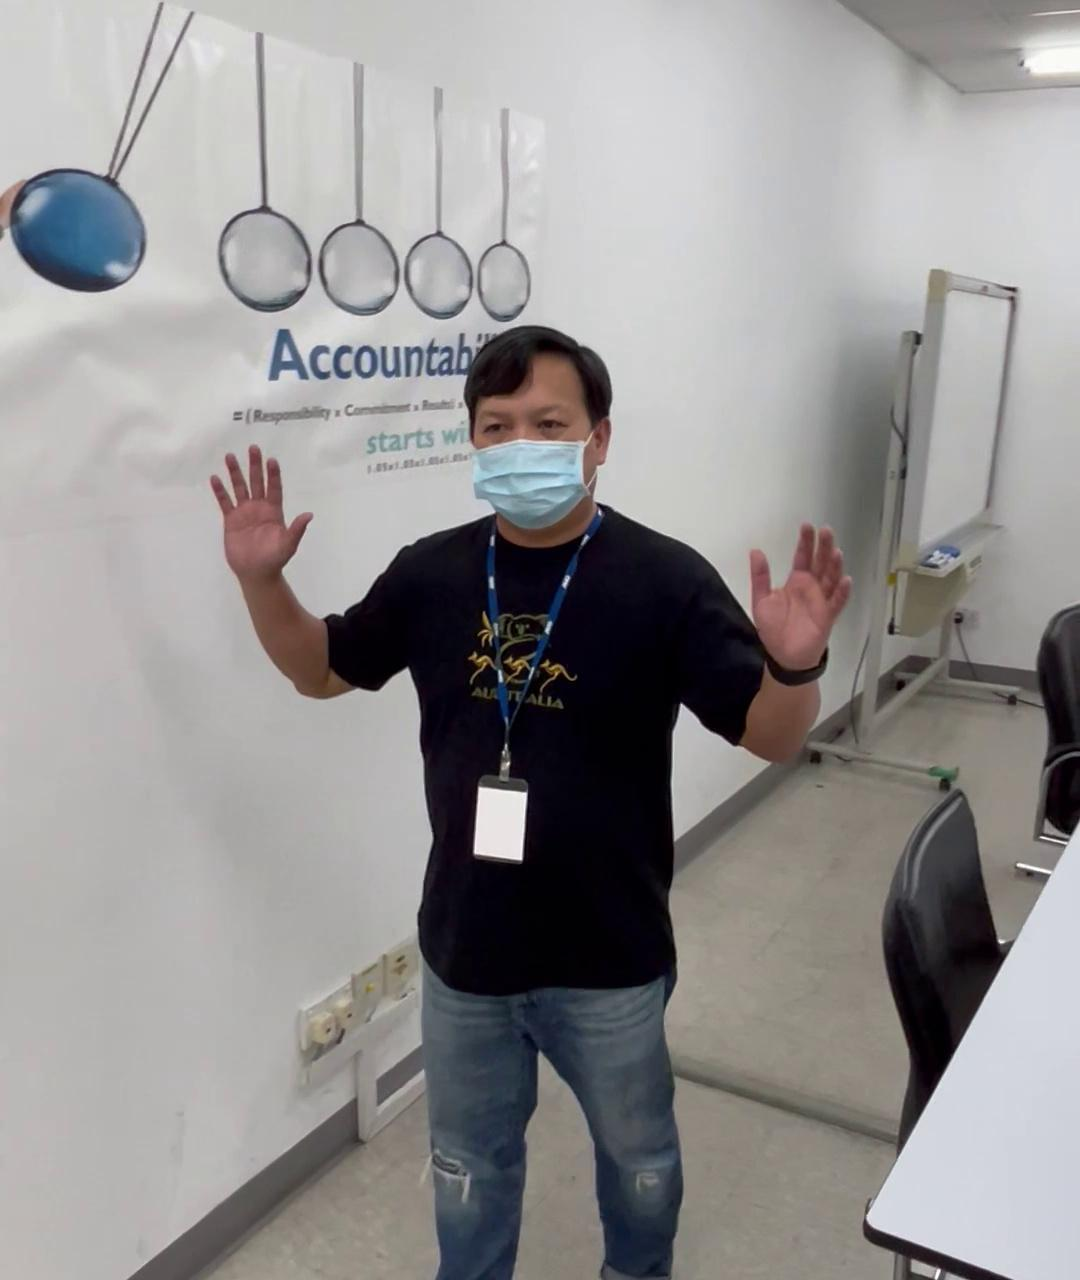No-gloves: (747, 510, 853, 675), (207, 438, 312, 592)
